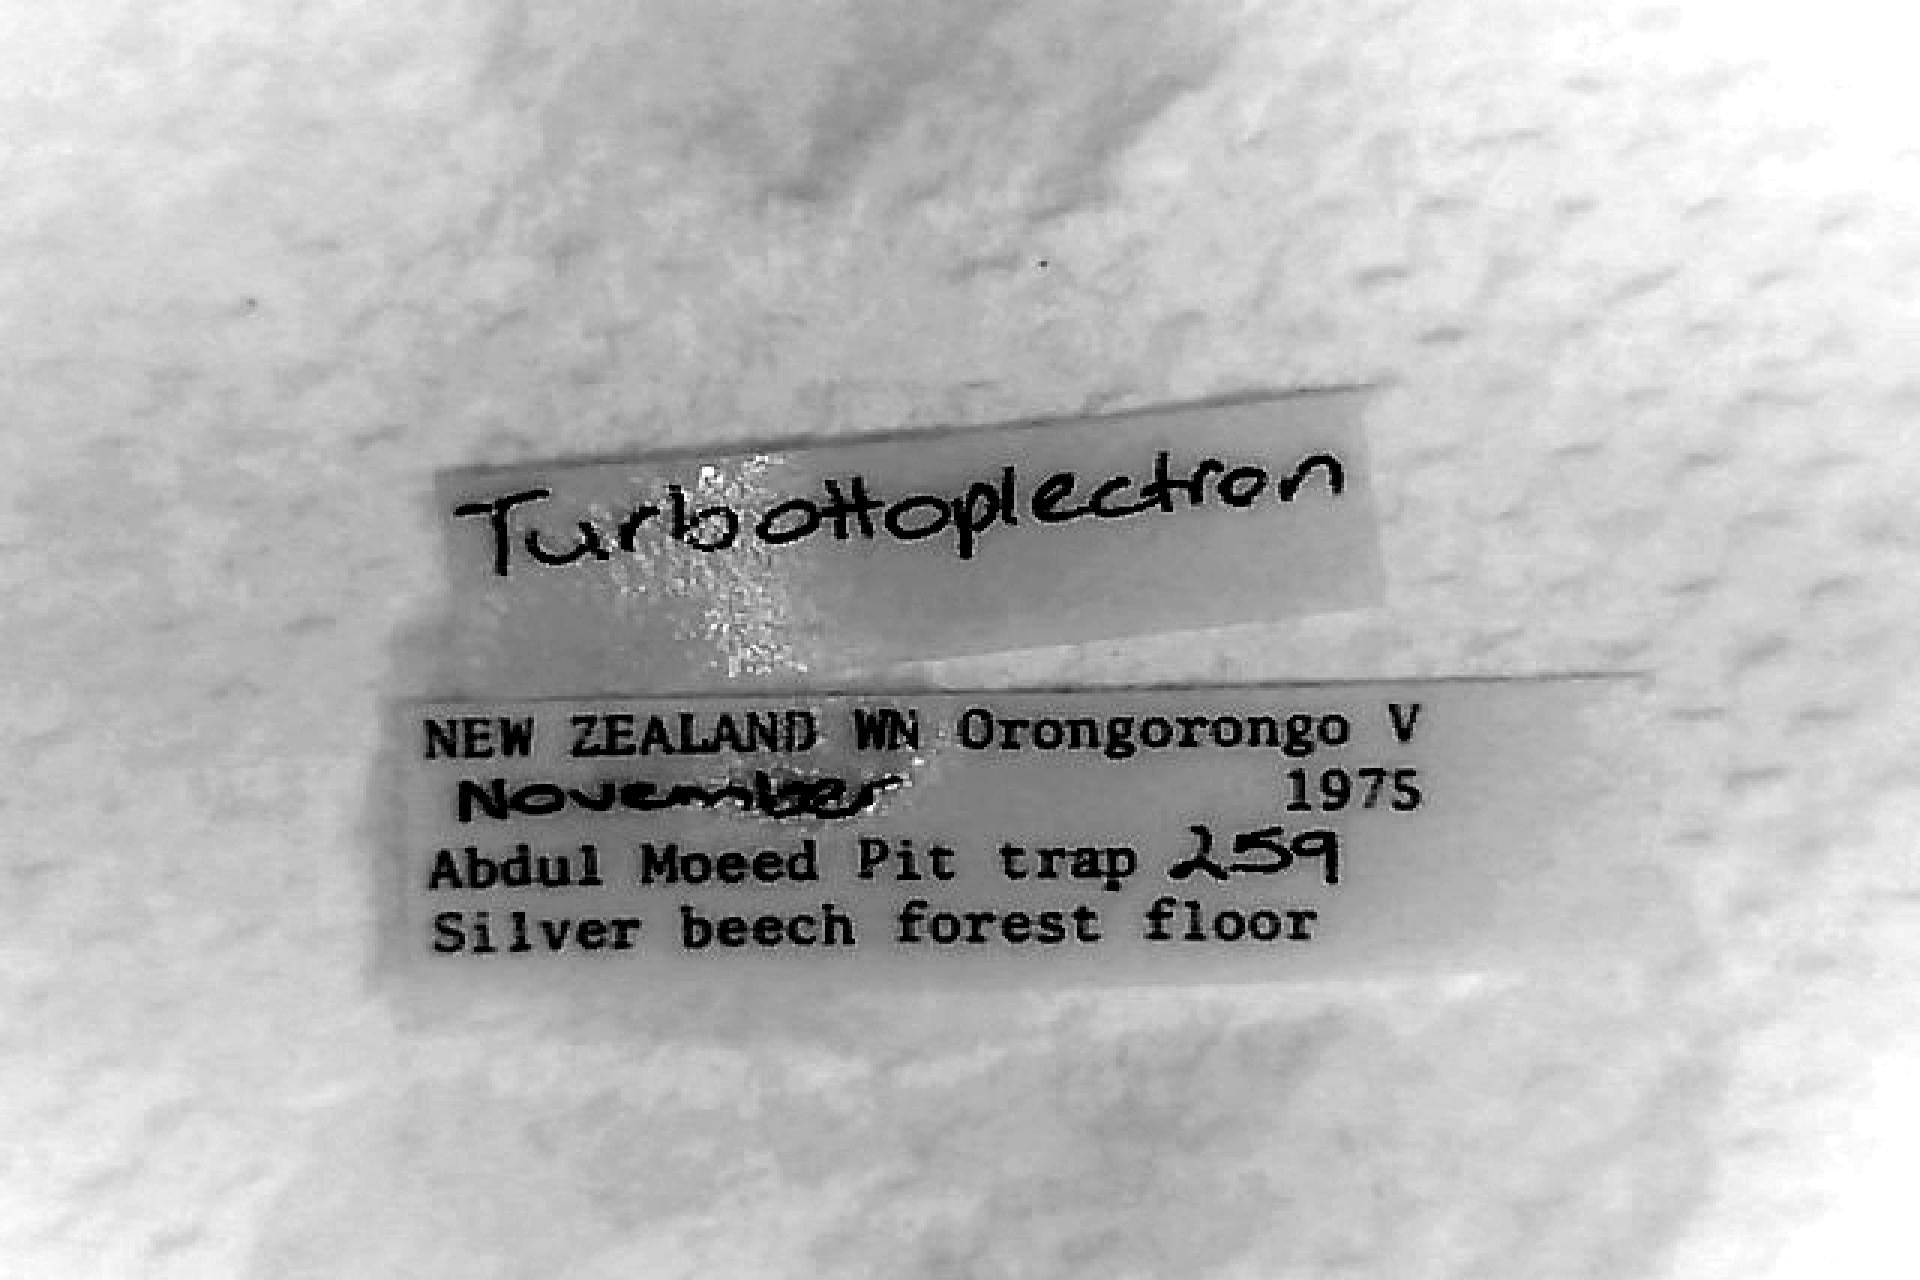hand_label: (444, 390, 1384, 693)
mixed_label: (401, 682, 1658, 988)
